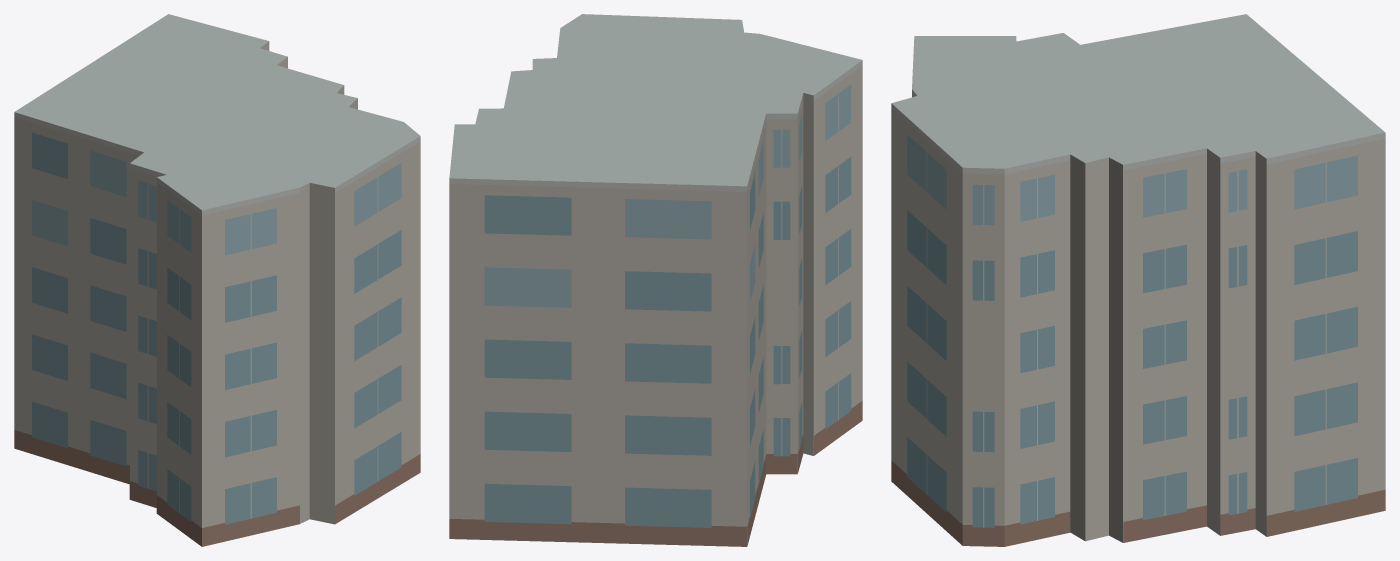
File: survey-upis-32999348.glb
The picture shows the model from 3 angles, left to right: view 1: azimuth 30°, elevation 25°; view 2: azimuth 150°, elevation 25°; view 3: azimuth 270°, elevation 25°; orthographic projection. The views are drawn at different scales.
Parts seen in each view (by area): view 1: survey-upis-32999348.tmp; view 2: survey-upis-32999348.tmp; view 3: survey-upis-32999348.tmp.
Boxes of the visible parts, <box> form: survey-upis-32999348.tmp: <box>14,14,420,546</box>; survey-upis-32999348.tmp: <box>449,14,862,546</box>; survey-upis-32999348.tmp: <box>891,14,1385,546</box>.
Size of the model in its own units: 14 by 15.95 by 18.9.
